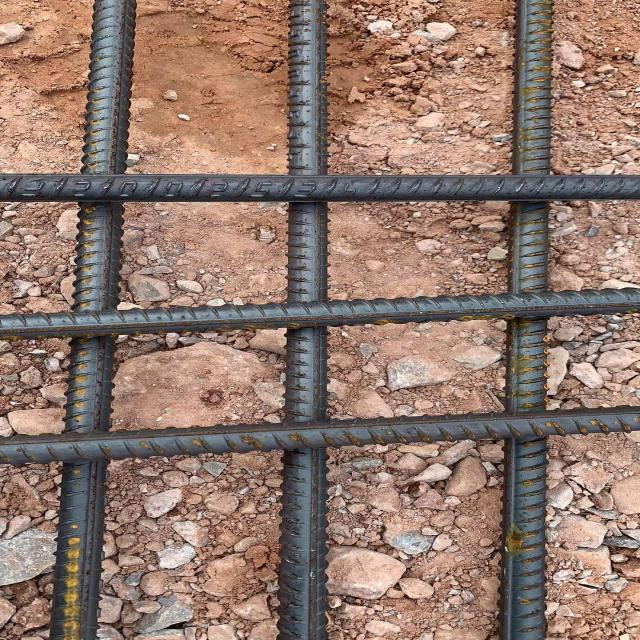ribbed bar: (46, 0, 135, 639), (0, 404, 639, 465), (495, 0, 555, 639), (0, 286, 639, 341), (275, 0, 326, 639), (0, 173, 639, 204)
